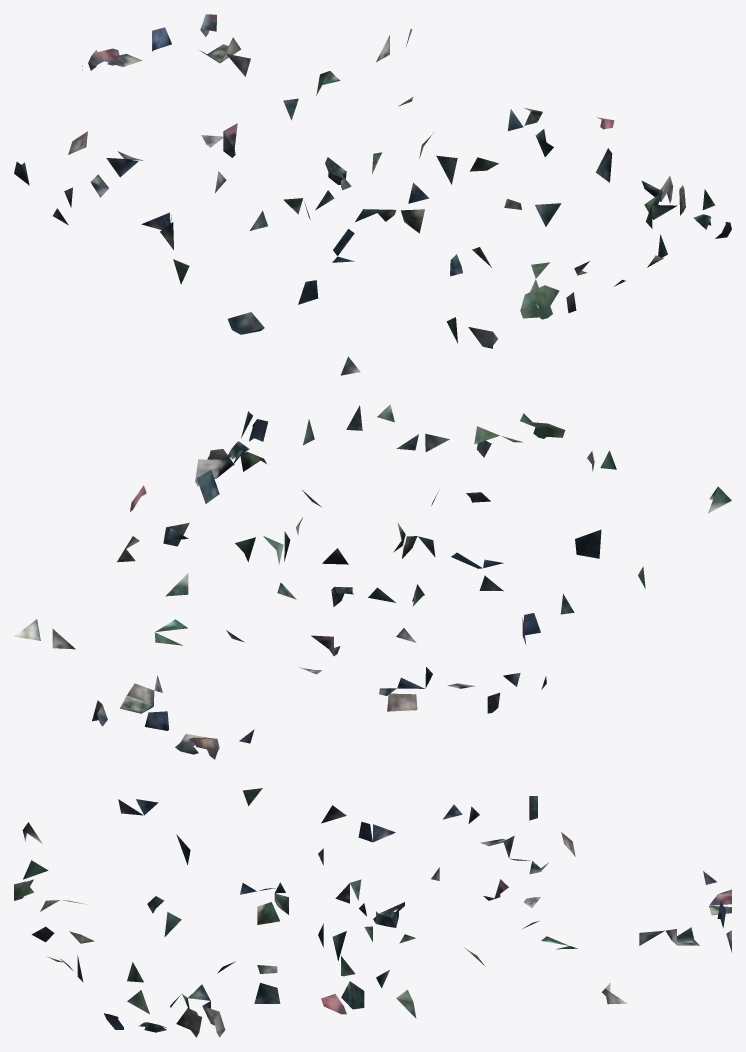
3 renders of one model, top to bottom at view 1: azimuth 30°, elevation 25°; view 2: azimuth 150°, elevation 25°; view 3: azimuth 270°, elevation 25°, orthographic. The views are drawn at different scales.
Parts seen in each view (by area): view 1: 30436272704361635_1; view 2: 30436272704361635_1; view 3: 30436272704361635_1.
Part boxes in pixels (bbox=[...]): 30436272704361635_1: bbox=[14, 14, 731, 375]; 30436272704361635_1: bbox=[14, 404, 731, 759]; 30436272704361635_1: bbox=[14, 788, 731, 1037].
Size of the model in its own units: 218 by 22.18 by 306.
Materials: 1 (1 with a texture image).
